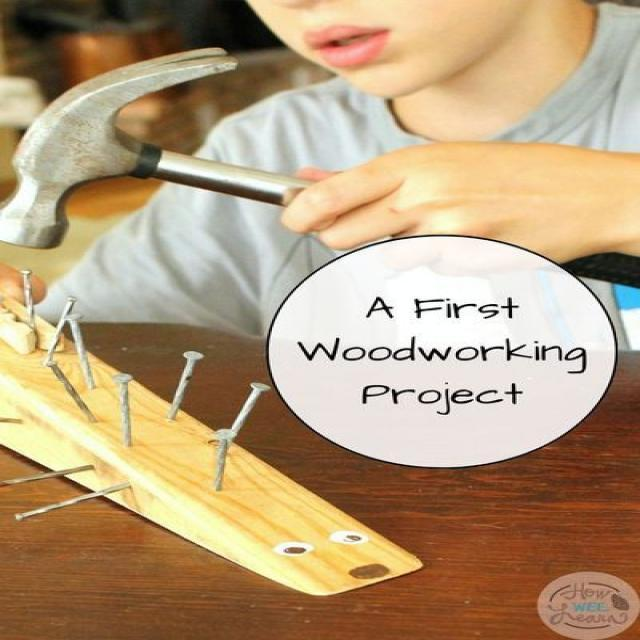hammer: (0, 42, 637, 306)
